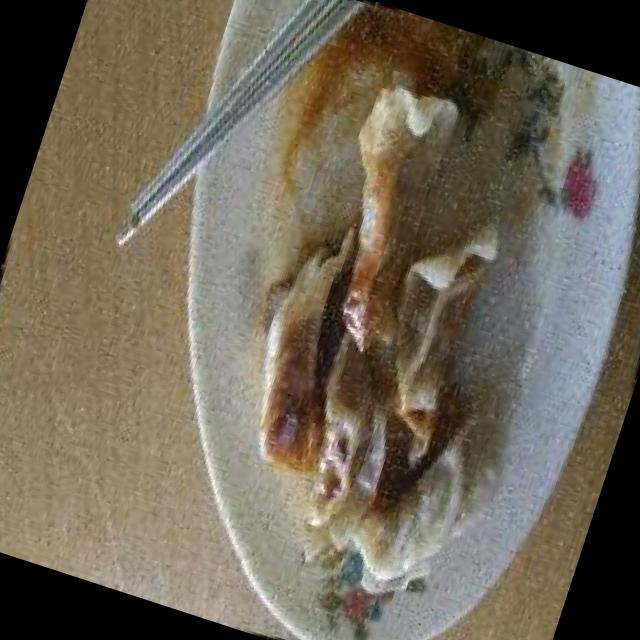fried_dumplings: (165, 42, 628, 640)
